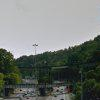Tree: (45, 36, 100, 76)
